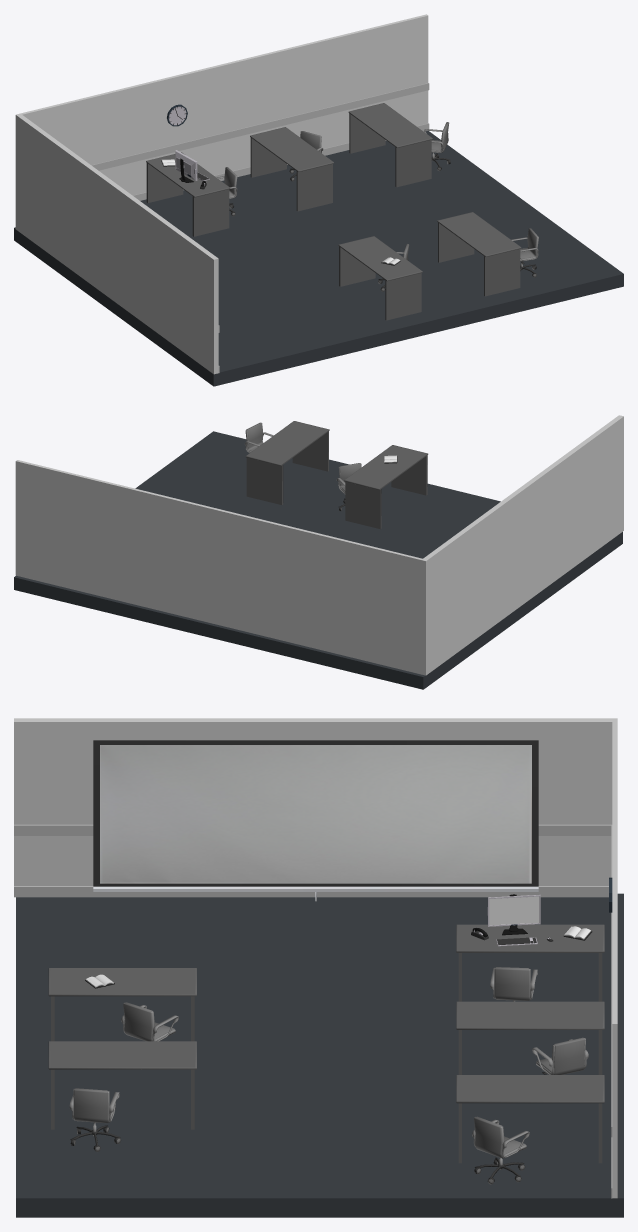
Rendered from cave room.fbx.
3 views of the same model, one above another, from view 1: azimuth 30°, elevation 25°; view 2: azimuth 150°, elevation 25°; view 3: azimuth 270°, elevation 25° (orthographic). The views are drawn at different scales.
Visible parts, largest first — view 1: Room.003, Floor.001, Desk.007, Desk.008, Desk.011, Desk.009, Desk.001, Baseboard.004, OfficeChair_Modern.016, Baseboard.003, Monitor_01.001; view 2: Room.003, Floor.001, Desk.011, Desk.009, OfficeChair_Modern.016, OfficeChair_Modern.015; view 3: Floor.001, Projector Screen.001, Room.003, Desk.008, Desk.011, Desk.007, Baseboard.003, Desk.009, Desk.001, Baseboard.004, OfficeChair_Modern.014, OfficeChair_Modern.016 (+4 smaller).
Part boxes in pixels (left/top/right/bottom): Room.003: left=15, top=14, right=428, bottom=374; Floor.001: left=14, top=131, right=623, bottom=386; Desk.007: left=250, top=127, right=333, bottom=211; Desk.008: left=348, top=103, right=432, bottom=187; Desk.011: left=437, top=212, right=521, bottom=296; Desk.009: left=338, top=236, right=422, bottom=320; Desk.001: left=146, top=152, right=230, bottom=236; Baseboard.004: left=92, top=83, right=429, bottom=332; OfficeChair_Modern.016: left=511, top=228, right=538, bottom=277; Baseboard.003: left=133, top=123, right=429, bottom=372; Monitor_01.001: left=175, top=150, right=197, bottom=182; Room.003: left=15, top=415, right=623, bottom=675; Floor.001: left=14, top=431, right=622, bottom=689; Desk.011: left=245, top=421, right=329, bottom=504; Desk.009: left=344, top=445, right=428, bottom=529; OfficeChair_Modern.016: left=245, top=422, right=273, bottom=452; OfficeChair_Modern.015: left=336, top=463, right=361, bottom=511; Floor.001: left=16, top=893, right=623, bottom=1217; Projector Screen.001: left=93, top=740, right=538, bottom=901; Room.003: left=14, top=718, right=617, bottom=1198; Desk.008: left=456, top=1075, right=604, bottom=1163; Desk.011: left=48, top=1041, right=196, bottom=1129; Desk.007: left=456, top=1001, right=604, bottom=1074; Baseboard.003: left=14, top=886, right=612, bottom=1198; Desk.009: left=48, top=968, right=196, bottom=1041; Desk.001: left=456, top=924, right=604, bottom=1001; Baseboard.004: left=14, top=824, right=612, bottom=1137; OfficeChair_Modern.014: left=472, top=1116, right=529, bottom=1184; OfficeChair_Modern.016: left=69, top=1088, right=120, bottom=1151.
Bounding box in the file's own units: 759 × 225 × 640.
16 materials, 1 textured.
